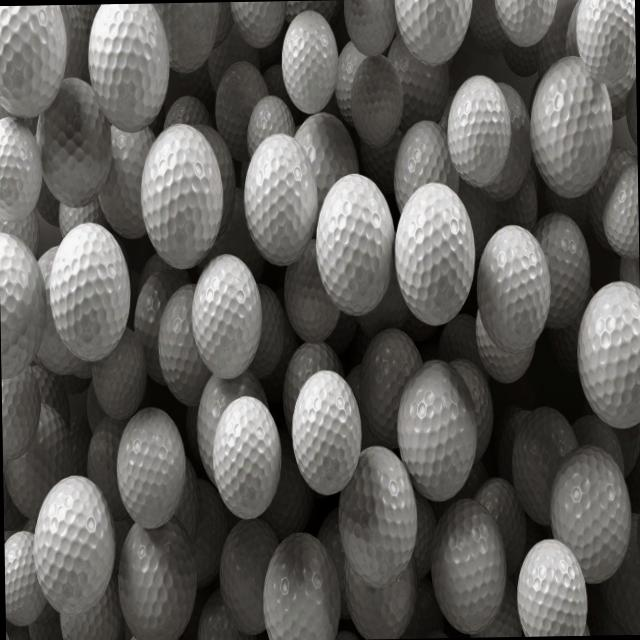ball: (392, 180, 477, 328)
